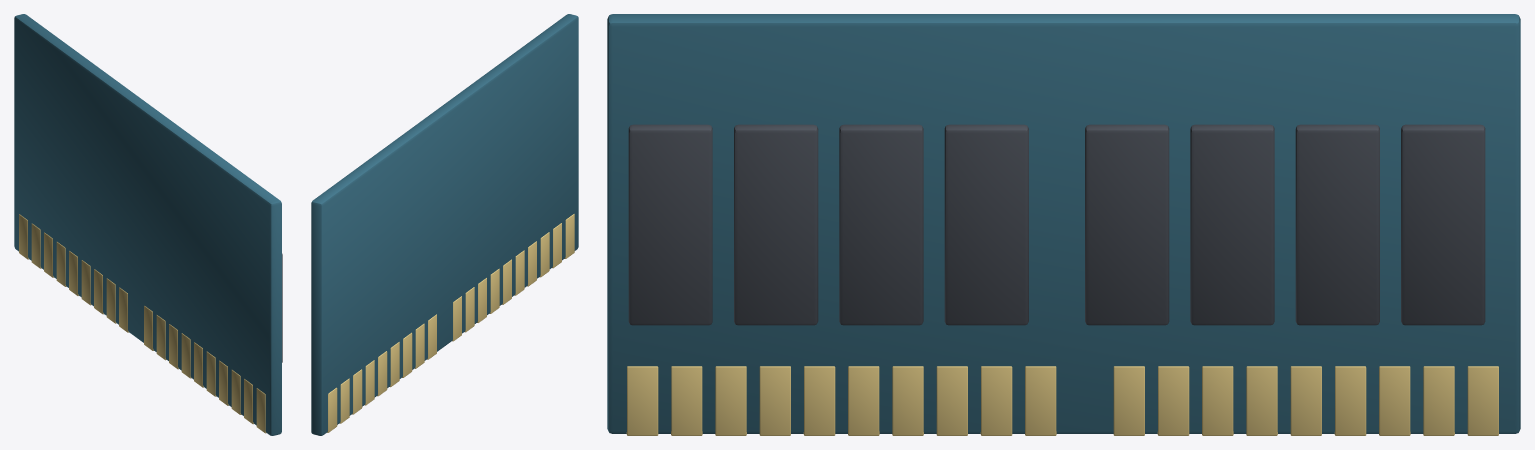
Rendered from dimm.glb.
3 views of the same model, side by side, from view 1: azimuth 30°, elevation 25°; view 2: azimuth 150°, elevation 25°; view 3: azimuth 270°, elevation 25° (orthographic). The views are drawn at different scales.
Visible parts, largest first — view 1: dimm; view 2: dimm; view 3: dimm.
Part boxes in pixels (x1,y1,x2,y2): dimm: (14, 14, 282, 435); dimm: (311, 14, 578, 435); dimm: (607, 14, 1520, 435).
Bounding box in the file's own units: 0.11 × 1.3 × 2.6.
